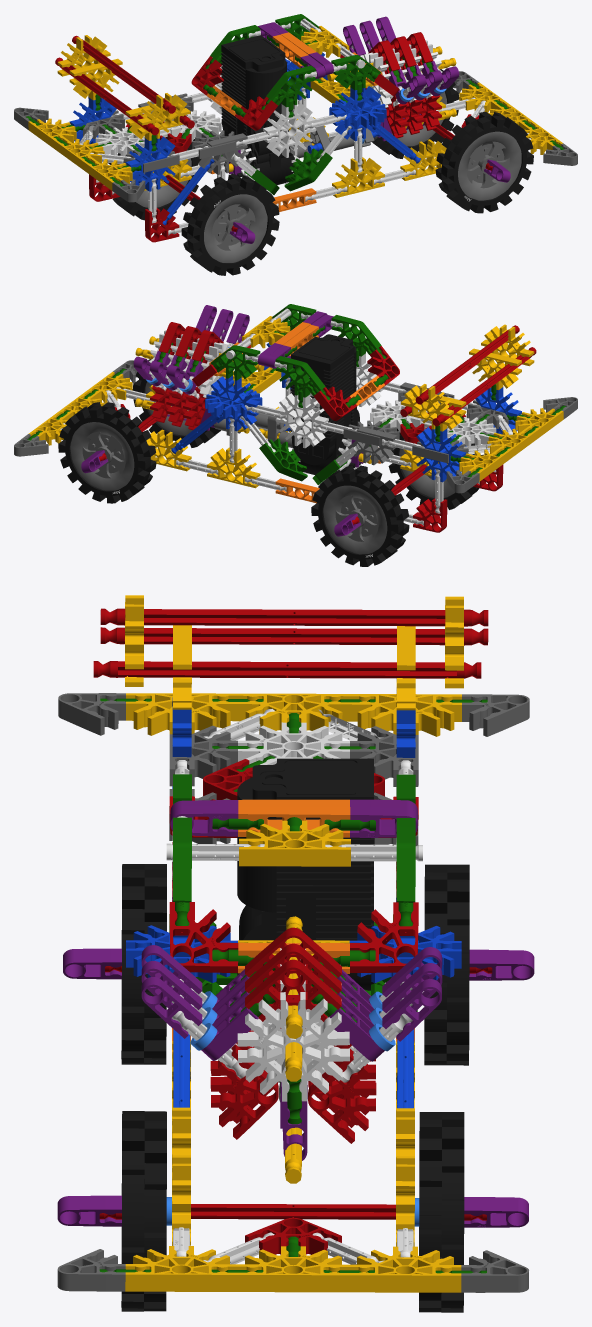
3 renders of one model, top to bottom at view 1: azimuth 30°, elevation 25°; view 2: azimuth 150°, elevation 25°; view 3: azimuth 270°, elevation 25°, orthographic. The views are drawn at different scales.
Parts seen in each view (by area): view 1: P5_L11.009, P5_L11.003, P5_L11.005, P5_L11.001, P5_L11.006, P5_L11.004, P5_L11.007, P5_L11.008, P5_L11.002; view 2: P5_L11.009, P5_L11.003, P5_L11.005, P5_L11.001, P5_L11.006, P5_L11.004, P5_L11.007, P5_L11.008, P5_L11.002; view 3: P5_L11.009, P5_L11.006, P5_L11.003, P5_L11.008, P5_L11.001, P5_L11.005, P5_L11.004, P5_L11.007, P5_L11.002, P5_L11.010.
Boxes of the visible parts, <box> form: P5_L11.009: <box>108,35,533,275</box>; P5_L11.003: <box>28,26,562,197</box>; P5_L11.005: <box>14,71,577,262</box>; P5_L11.001: <box>79,18,531,235</box>; P5_L11.006: <box>55,32,492,242</box>; P5_L11.004: <box>26,14,564,194</box>; P5_L11.007: <box>69,52,420,225</box>; P5_L11.008: <box>228,16,510,243</box>; P5_L11.002: <box>206,32,382,211</box>; P5_L11.009: <box>58,334,483,566</box>; P5_L11.003: <box>28,316,563,488</box>; P5_L11.005: <box>14,360,577,554</box>; P5_L11.001: <box>60,308,512,525</box>; P5_L11.006: <box>99,322,536,532</box>; P5_L11.004: <box>27,304,565,485</box>; P5_L11.007: <box>171,343,521,482</box>; P5_L11.008: <box>81,305,363,536</box>; P5_L11.002: <box>209,322,384,503</box>; P5_L11.009: <box>121,758,469,1312</box>; P5_L11.006: <box>93,608,492,1254</box>; P5_L11.003: <box>125,595,463,1292</box>; P5_L11.008: <box>57,799,534,1227</box>; P5_L11.001: <box>166,708,422,1264</box>; P5_L11.005: <box>57,693,529,1292</box>; P5_L11.004: <box>99,698,487,1273</box>; P5_L11.007: <box>126,697,461,1108</box>; P5_L11.002: <box>172,799,414,1053</box>; P5_L11.010: <box>166,991,419,1226</box>.
Bounding box in the file's own units: 3.04 × 1.25 × 1.39.
